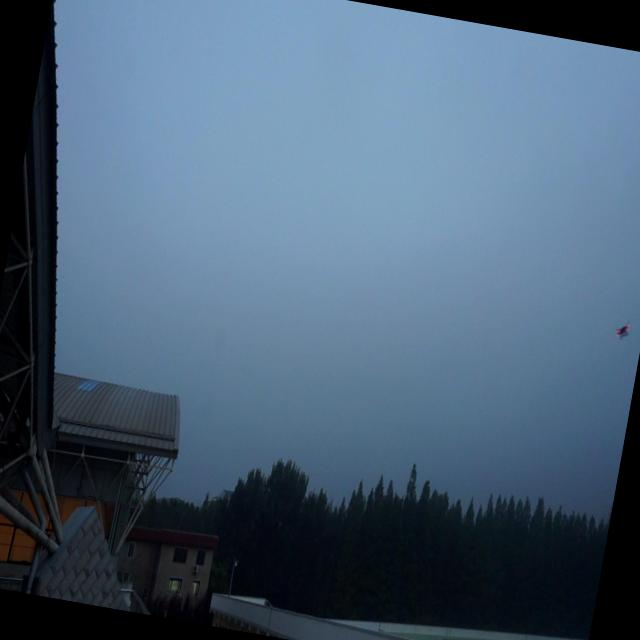drone: (612, 317, 632, 341)
